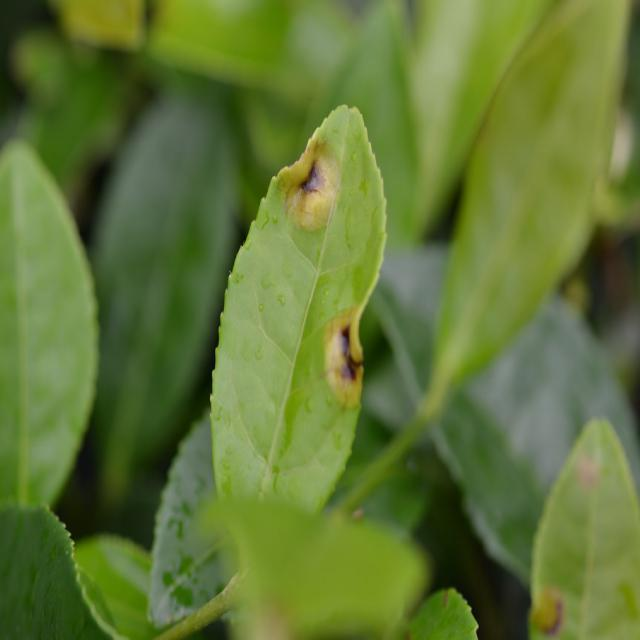Tea cake: (280, 134, 341, 220), (323, 305, 372, 406)
